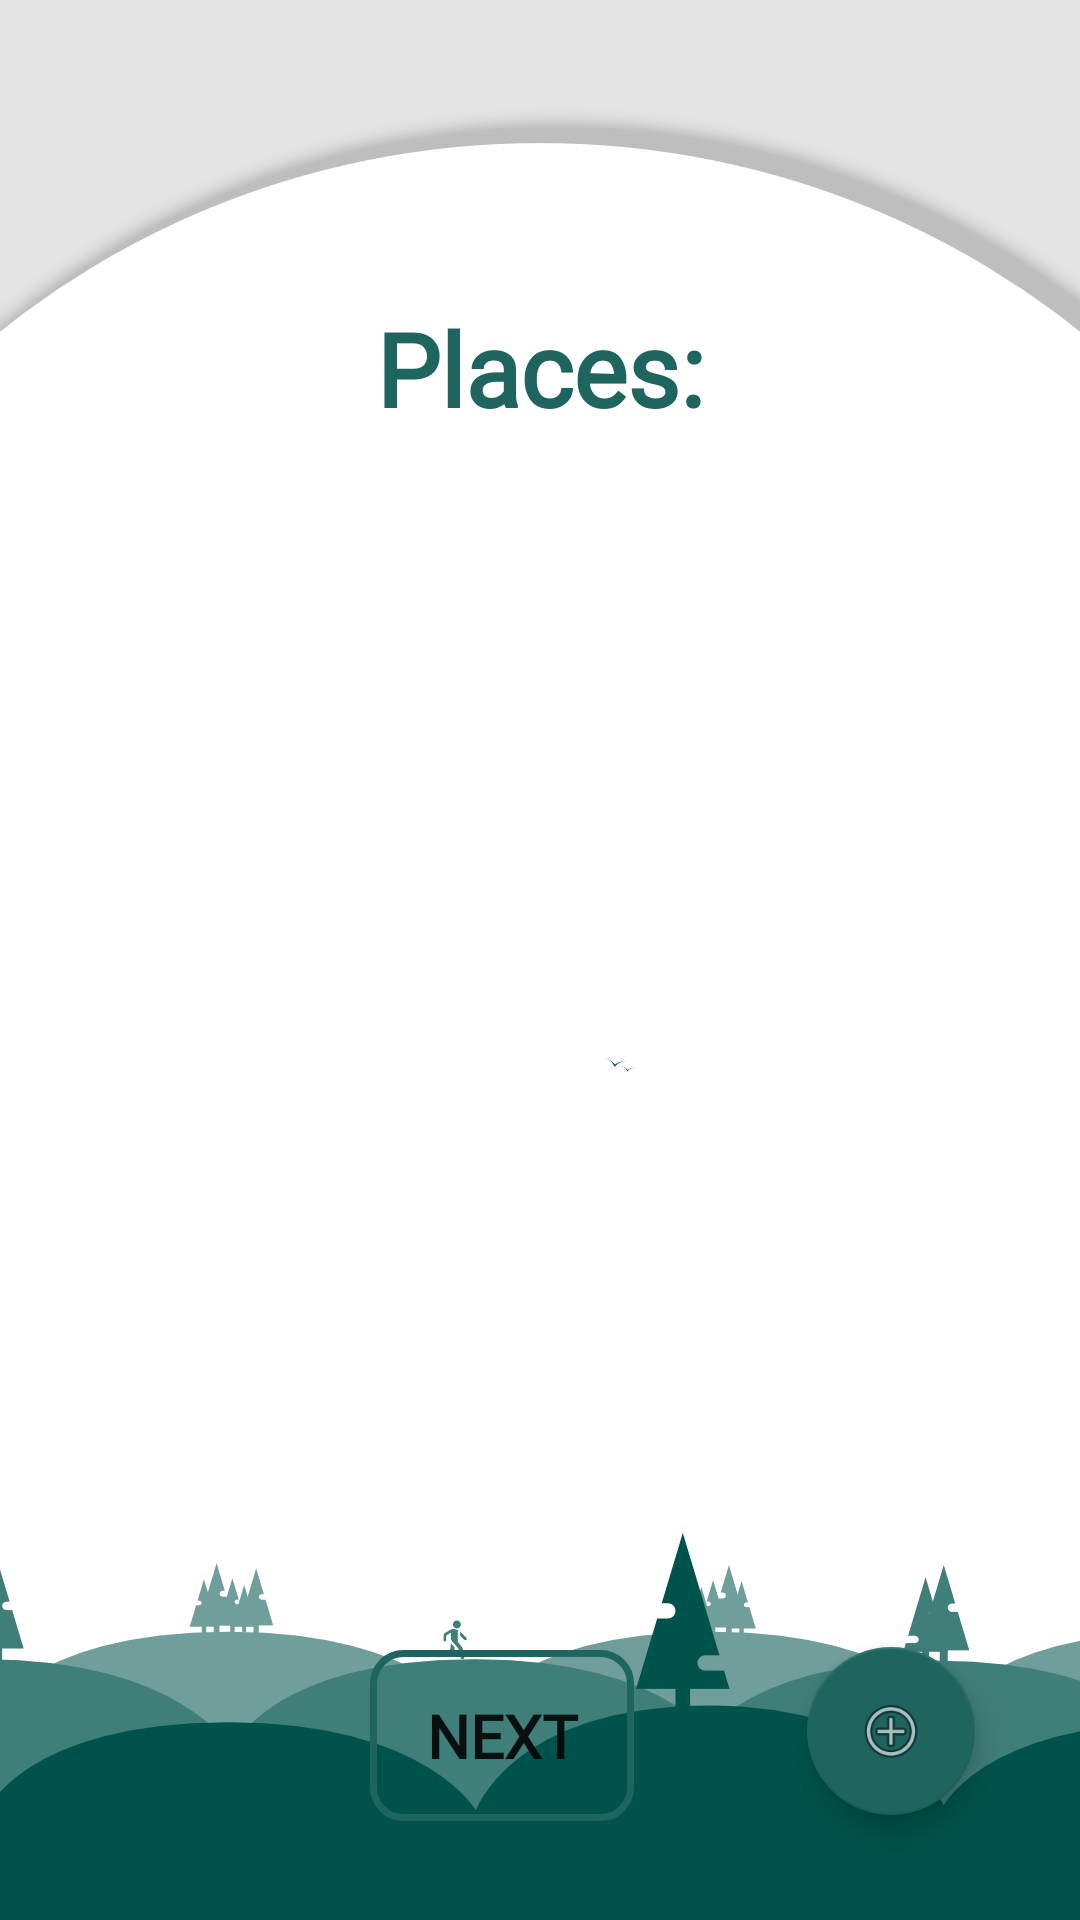

Screen size 1080*1920. Icon name, then its center in pixels as (x,y):
add: (891,1731)
